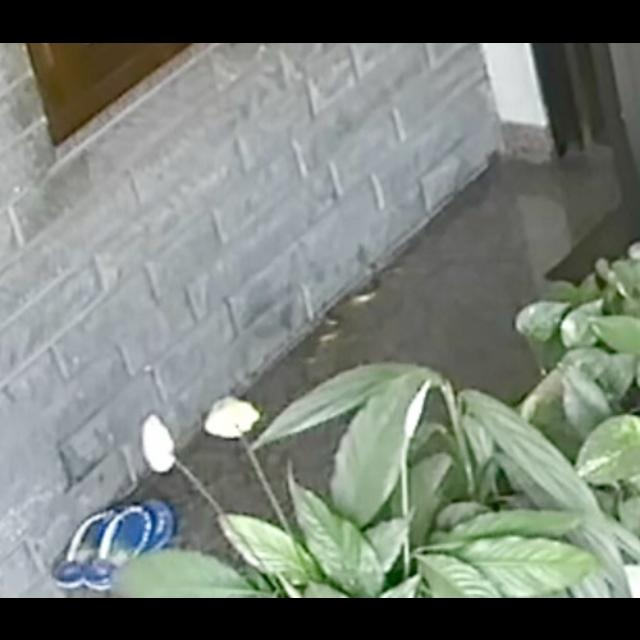snake: (42, 470, 178, 594)
